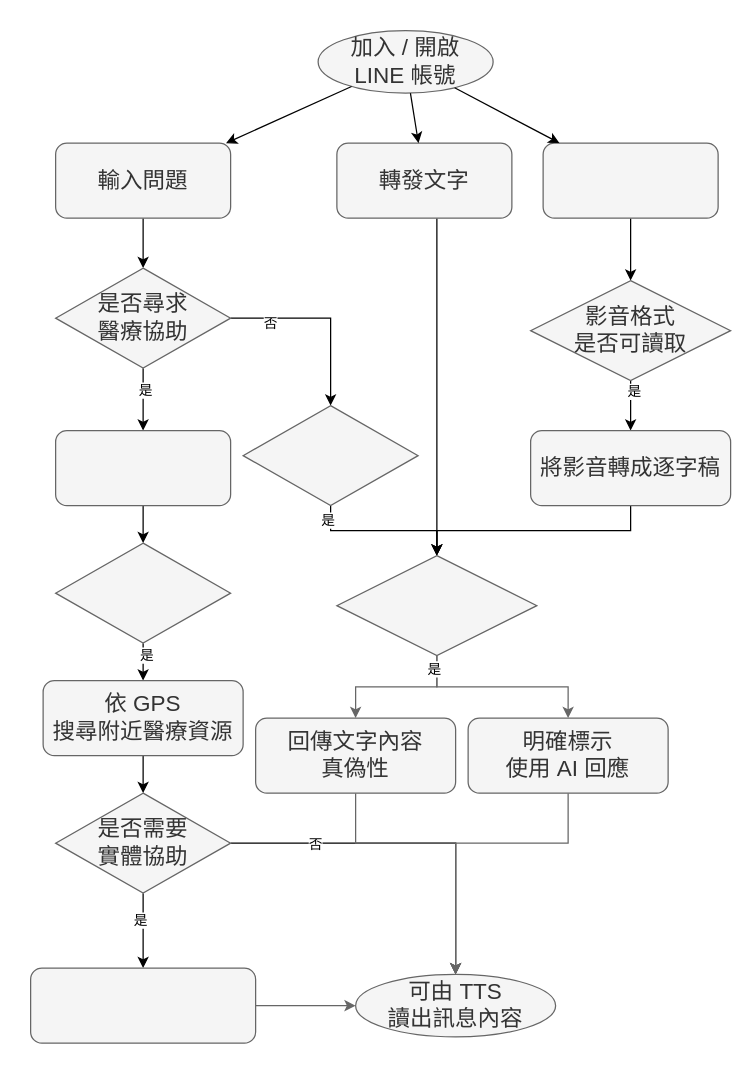
This 753x1065 diagram has some shape labels left out. Each missing label, with the box of its shape:
協助填寫掛號資料 / 撥打電話: (29, 967, 256, 1043)
文字內容 是否可驗證: (336, 554, 537, 656)
是否搜尋 附近資源: (54, 542, 231, 643)
是否詢問 健康問題: (242, 404, 418, 506)
給出解決辦法: (54, 429, 231, 506)
轉發影片: (542, 142, 718, 218)
